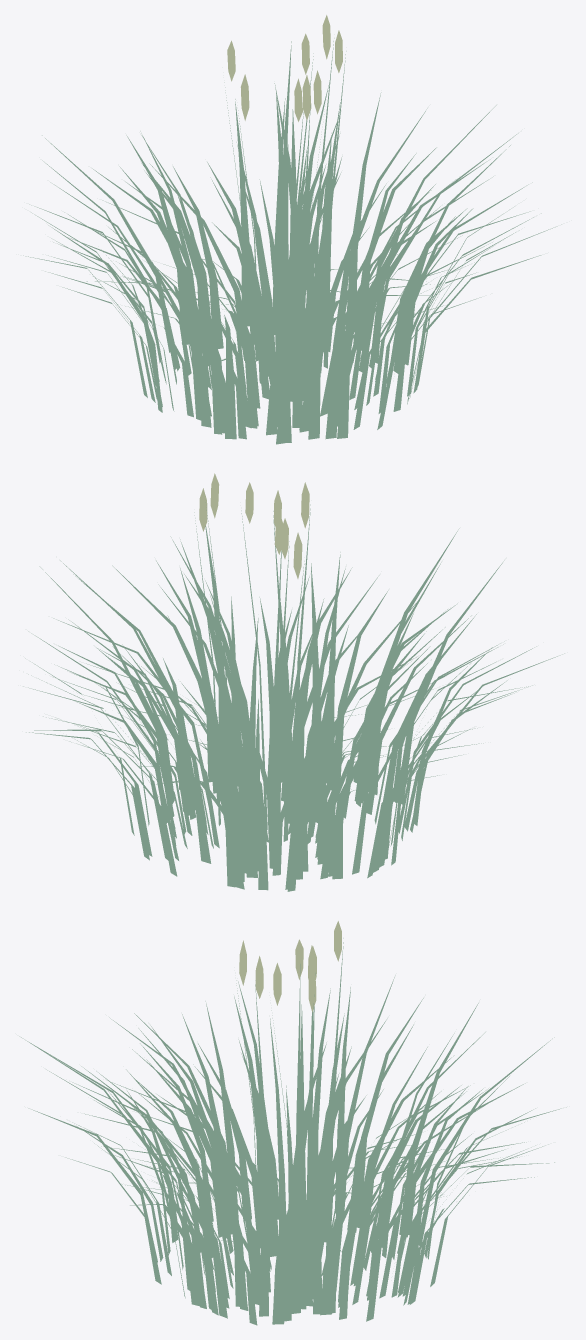
Rendered from Blender_Wheatgrass_1.glb.
3 renders of one model, top to bottom at view 1: azimuth 30°, elevation 25°; view 2: azimuth 150°, elevation 25°; view 3: azimuth 270°, elevation 25°, orthographic.
Visible parts, largest first — view 1: Blender_Wheatgrass_1; view 2: Blender_Wheatgrass_1; view 3: Blender_Wheatgrass_1.
Boxes of the visible parts, x1,y1,x2,y2 form: Blender_Wheatgrass_1: (23, 15, 561, 444); Blender_Wheatgrass_1: (23, 473, 564, 891); Blender_Wheatgrass_1: (19, 921, 566, 1325).
Size of the model in its own units: 1.17 by 0.8277 by 1.2.
